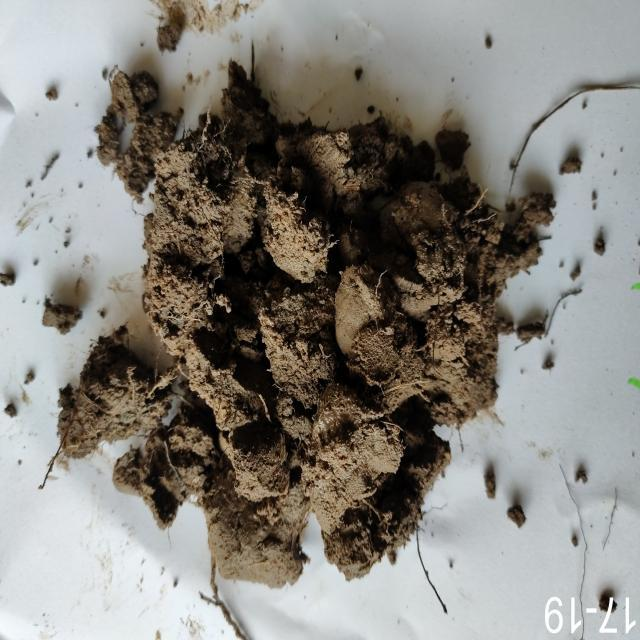soil: (192, 150, 412, 524)
